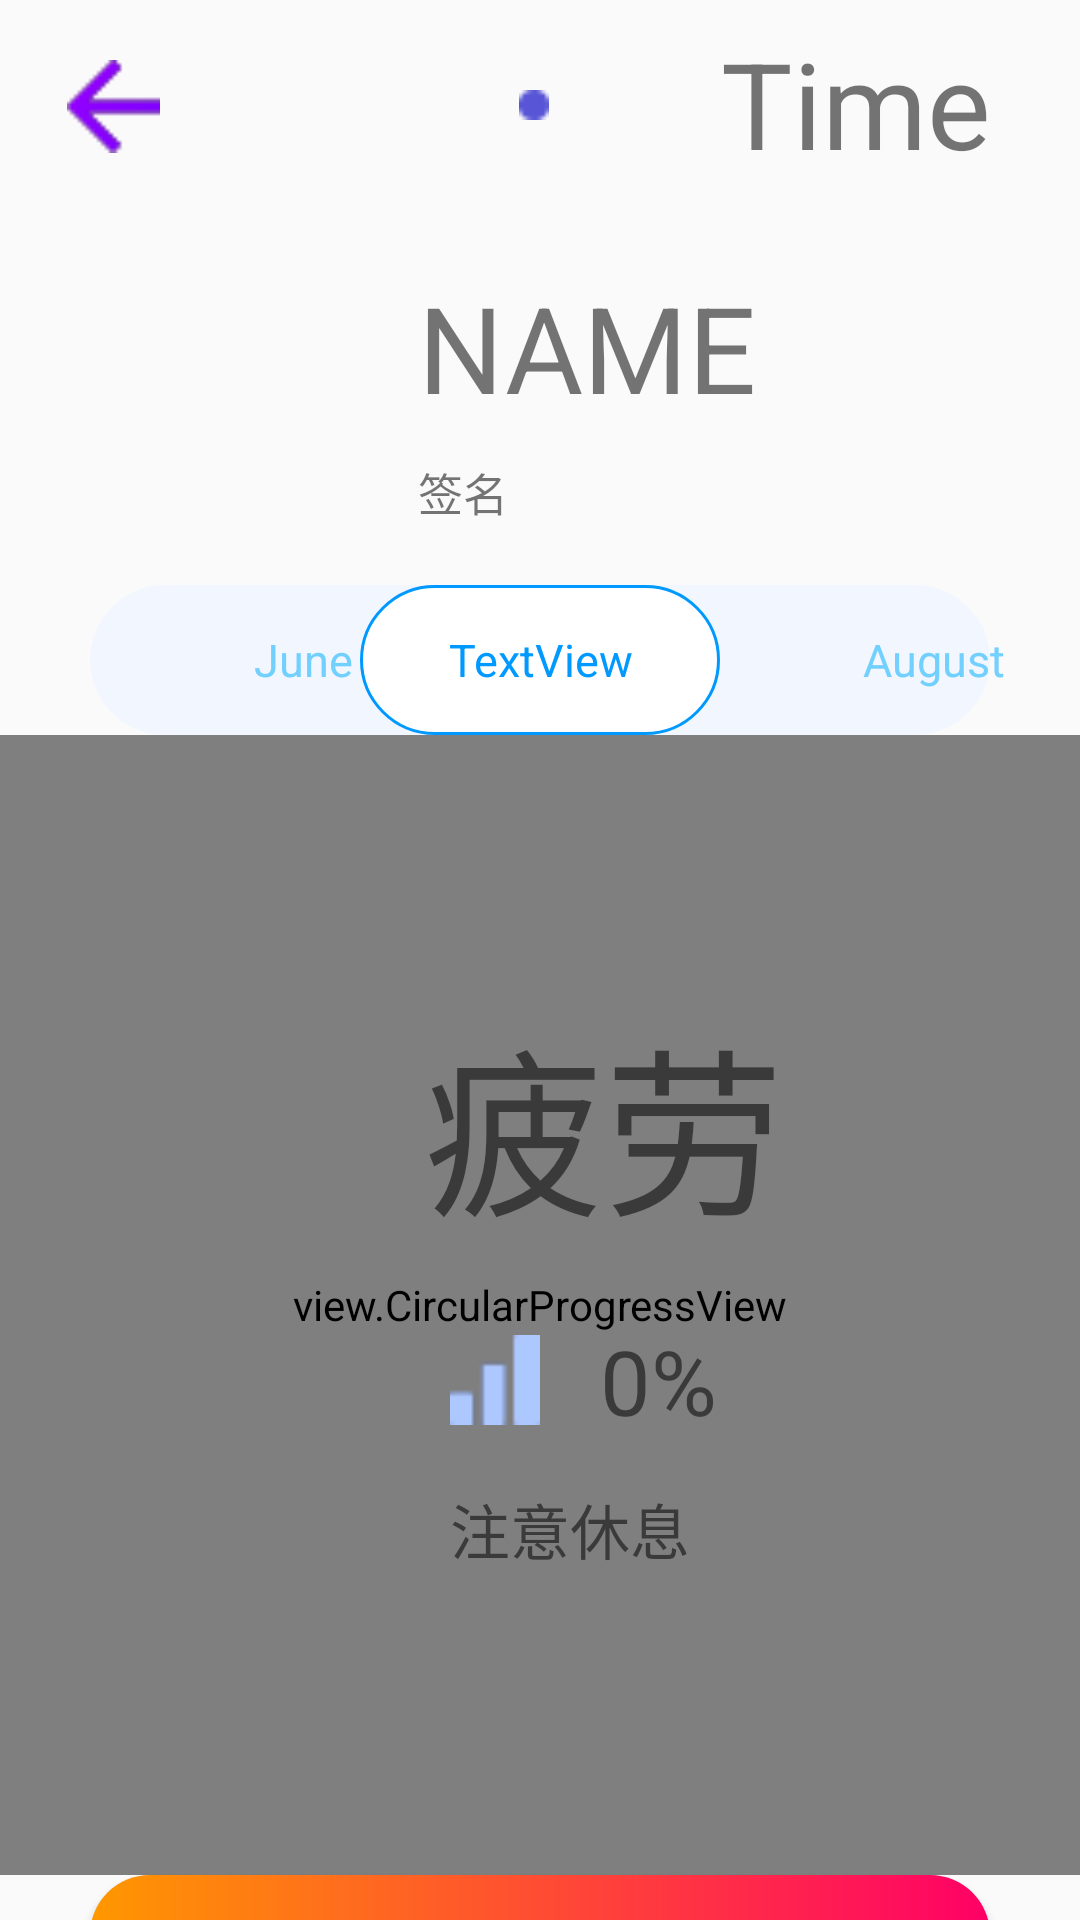

Where icons sit on this 1080 x 1920 app screen, as [left=x1, top=y1, right=x2, bottom=y2]:
chart: [left=450, top=1335, right=540, bottom=1425]
show back: [left=67, top=60, right=160, bottom=153]
